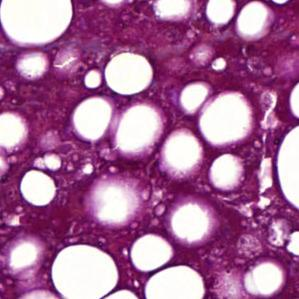steatosis: (103, 52, 157, 94), (129, 235, 172, 272), (19, 167, 58, 206), (235, 0, 274, 38)
